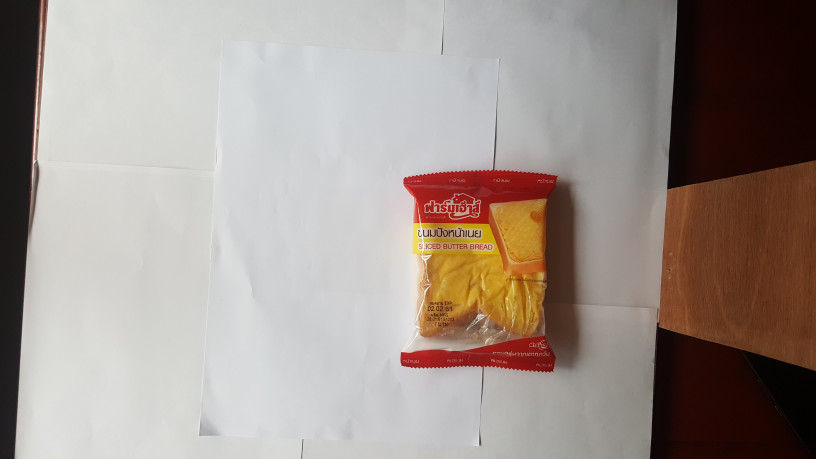farmhouse-bread-butter: (395, 163, 569, 382)
